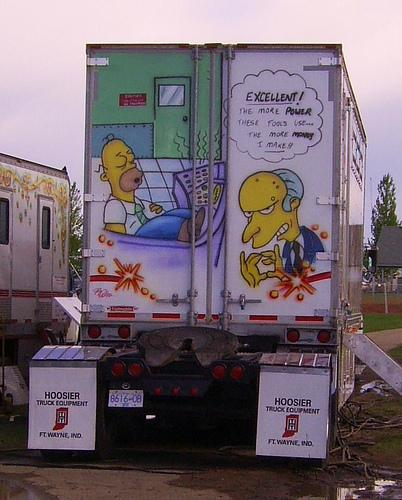truck: (26, 43, 368, 472)
